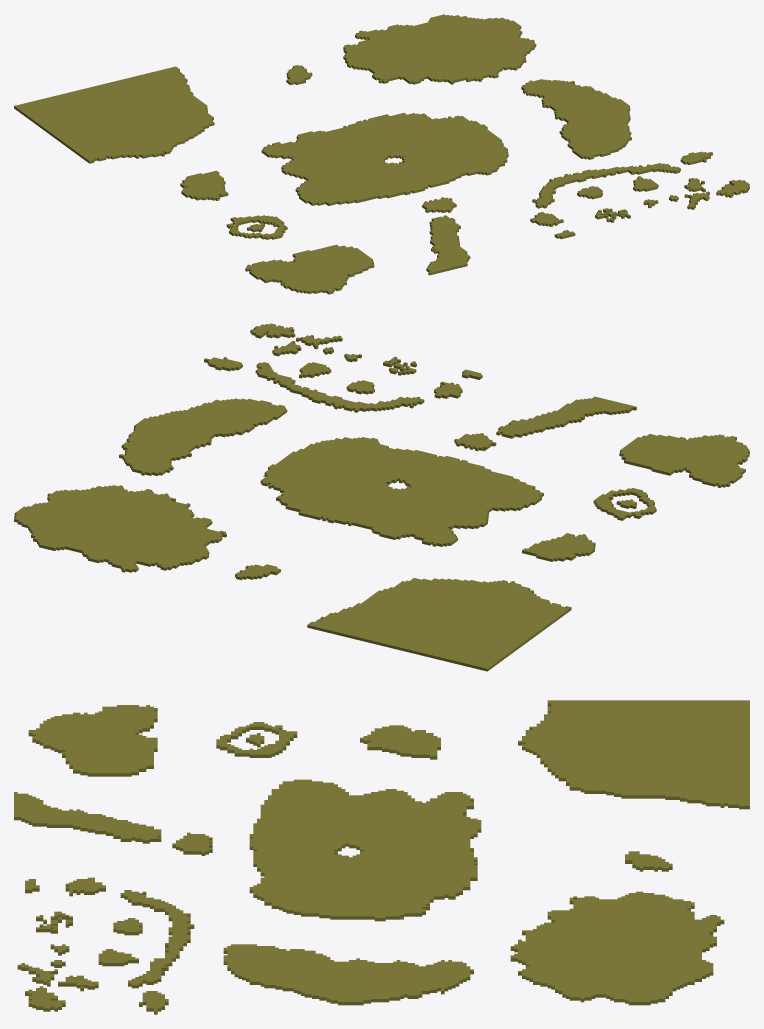
File: Map-1-Ground.fbx
3 views of the same model, one above another, from view 1: azimuth 30°, elevation 25°; view 2: azimuth 150°, elevation 25°; view 3: azimuth 270°, elevation 25° (orthographic). The views are drawn at different scales.
Visible parts, largest first — view 1: Map-1-Ground; view 2: Map-1-Ground; view 3: Map-1-Ground.
Boxes of the visible parts, x1,y1,x2,y2 form: Map-1-Ground: (14,14,749,294); Map-1-Ground: (14,323,749,671); Map-1-Ground: (14,700,749,1014).
Size of the model in its own units: 20000 by 100 by 20000.
